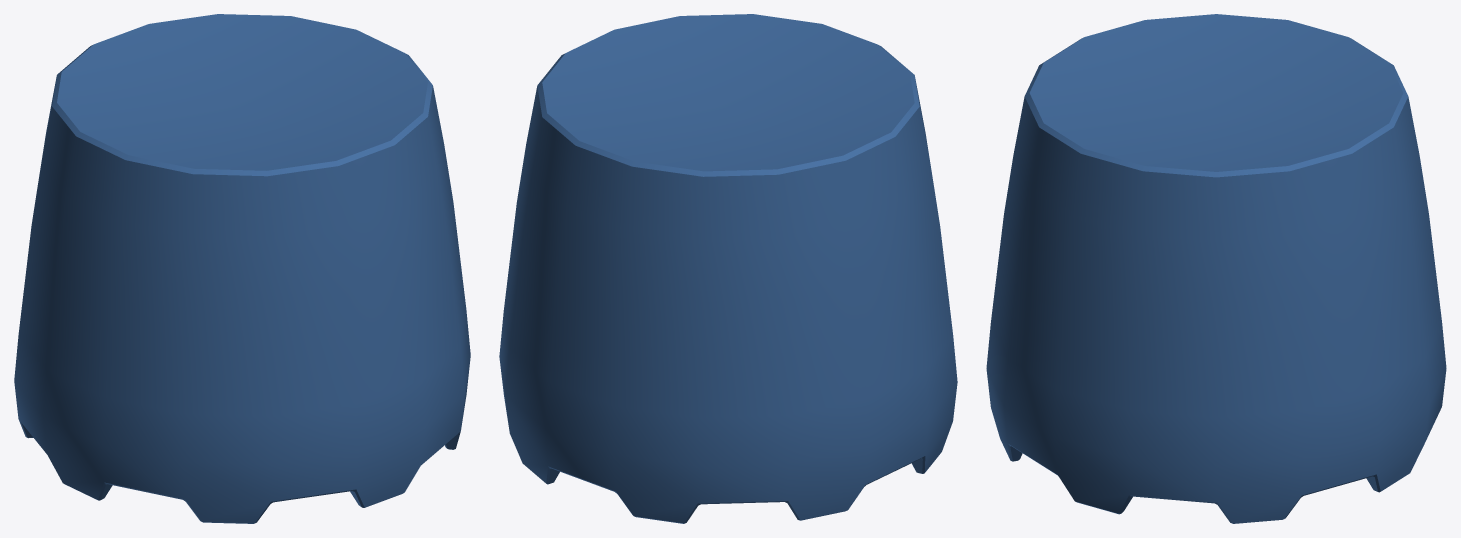
Rendered from robot_body.glb.
3 renders of one model, left to right at view 1: azimuth 30°, elevation 25°; view 2: azimuth 150°, elevation 25°; view 3: azimuth 270°, elevation 25°, orthographic.
Parts seen in each view (by area): view 1: Body; view 2: Body; view 3: Body.
Part boxes in pixels (box(x1,y1,x2,y2)): Body: box(14, 14, 470, 523); Body: box(499, 14, 957, 523); Body: box(986, 14, 1446, 523).
Bounding box in the file's own units: 0.2516 × 0.2056 × 0.2516.
